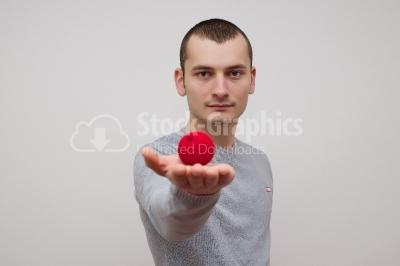Red_Ball: (174, 127, 217, 168)
